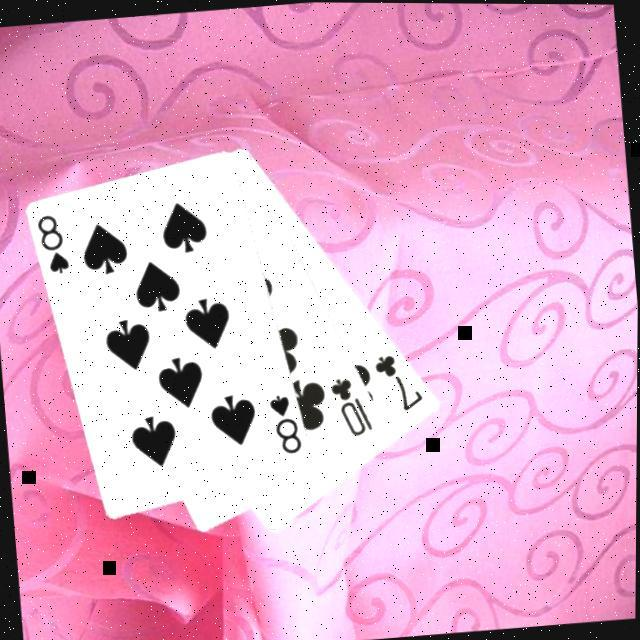10C: (328, 369, 380, 440)
7C: (372, 346, 429, 414)
8S: (266, 387, 308, 457), (34, 208, 75, 278)
